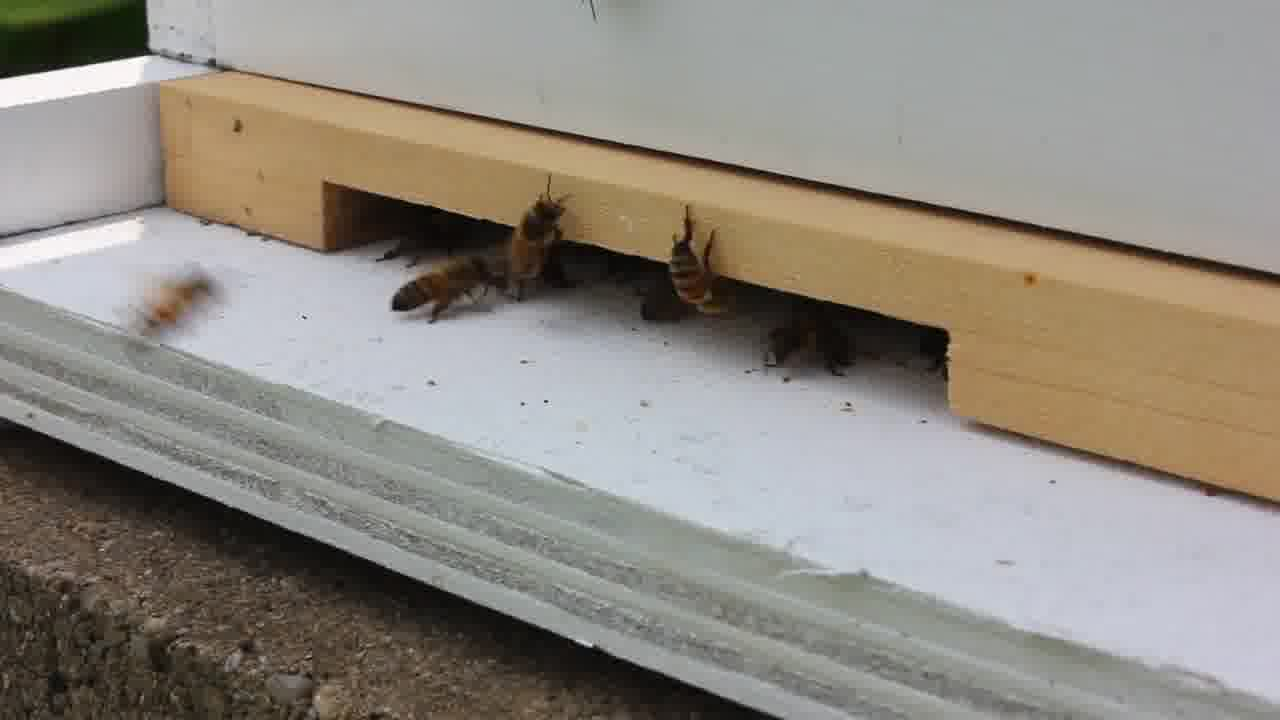pollen: (386, 258, 496, 322)
